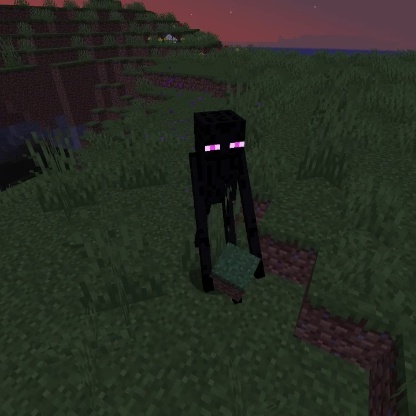enderman: (185, 107, 268, 307)
